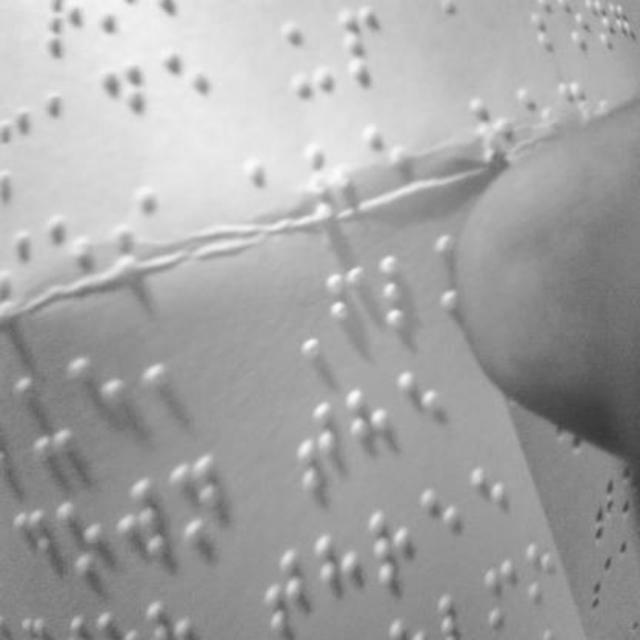braiile: (113, 472, 173, 576), (66, 343, 124, 447), (171, 448, 223, 556), (266, 531, 320, 635), (51, 491, 107, 589), (99, 58, 151, 160), (313, 524, 365, 624), (290, 402, 346, 494), (340, 3, 392, 101), (40, 82, 90, 182), (160, 43, 210, 143), (380, 246, 432, 342), (396, 364, 448, 460), (347, 382, 397, 476), (142, 340, 194, 430), (282, 22, 336, 108), (324, 261, 372, 357), (369, 506, 421, 592), (470, 460, 518, 550), (420, 480, 470, 566)
